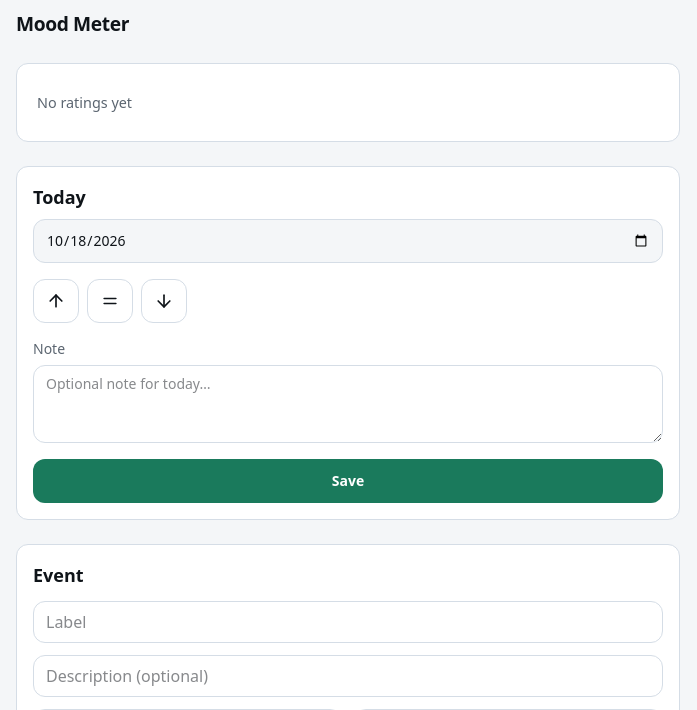
App composition › feeds the timeline from a saved day rating
Click the button named "Up": (56, 301) [33, 279, 79, 323]
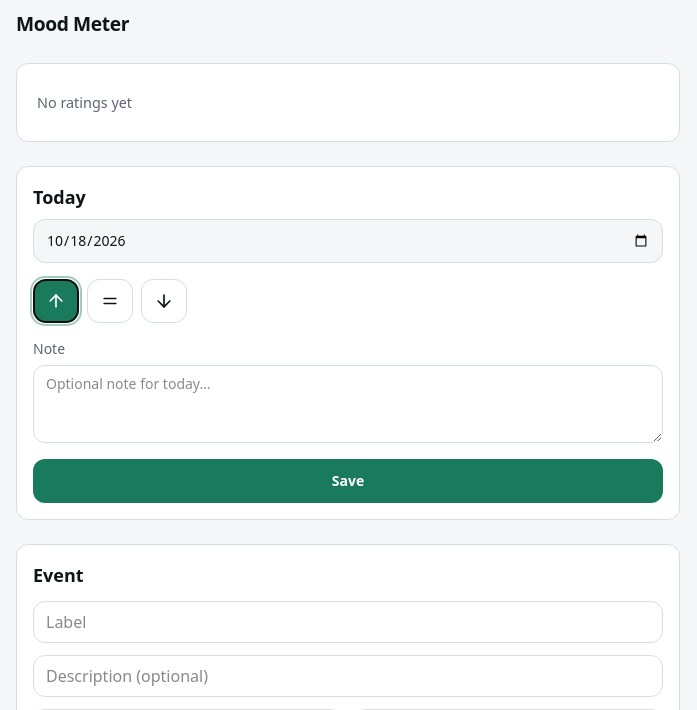
Click the button "Save": (348, 481) [33, 459, 663, 503]
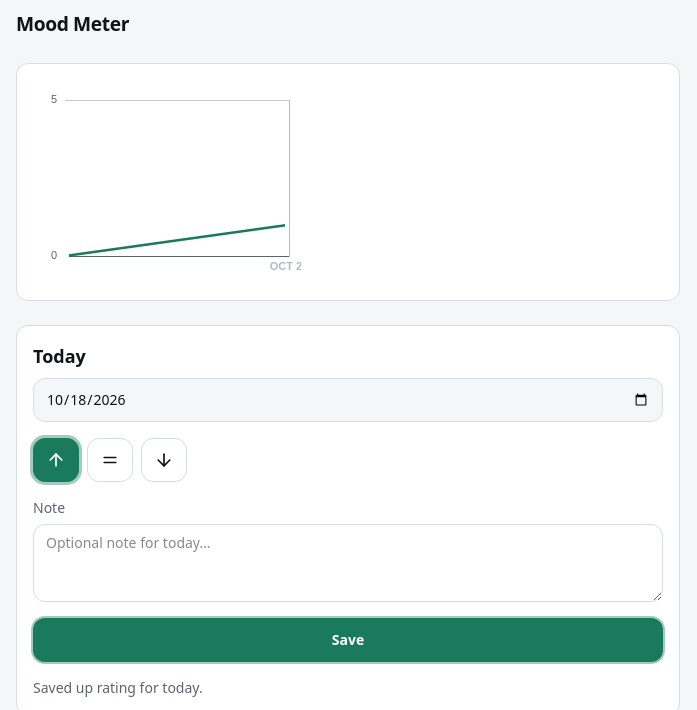
Expected: the element named "Mood timeline" is shown, [16, 63, 680, 301]
Expected: the text "No ratings yet" is gone
